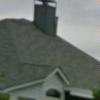Chimney: (28, 1, 65, 37)
